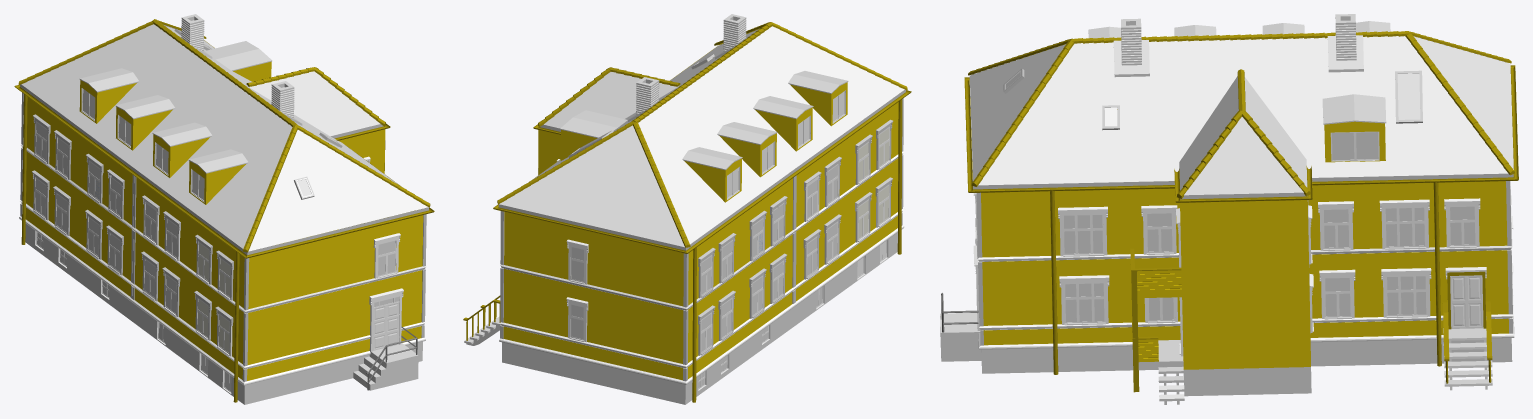
The model's file is house_tile_1_1111.glb.
The picture shows the model from 3 angles, left to right: view 1: azimuth 30°, elevation 25°; view 2: azimuth 150°, elevation 25°; view 3: azimuth 270°, elevation 25°; orthographic projection. The views are drawn at different scales.
Visible parts, largest first — view 1: SketchUp.874, SketchUp.871, SketchUp.865, SketchUp.002, SketchUp.511, SketchUp.484, SketchUp.001, SketchUp.872, SketchUp.015, SketchUp.057, SketchUp.052, SketchUp.734 (+19 smaller); view 2: SketchUp.874, SketchUp.871, SketchUp.002, SketchUp.865, SketchUp.511, SketchUp.484, SketchUp.001, SketchUp.872, SketchUp.057, SketchUp.052, SketchUp.734, SketchUp.522 (+14 smaller); view 3: SketchUp.871, SketchUp.874, SketchUp.868, SketchUp.865, SketchUp.002, SketchUp, SketchUp.511, SketchUp.872, SketchUp.734, SketchUp.057, SketchUp.484, SketchUp.019 (+30 smaller).
Boxes of the visible parts, x1,y1,x2,y2 form: SketchUp.874: (25, 97, 423, 380); SketchUp.871: (21, 24, 428, 251); SketchUp.865: (249, 71, 380, 136); SketchUp.002: (25, 224, 422, 404); SketchUp.511: (14, 40, 434, 258); SketchUp.484: (19, 216, 425, 385); SketchUp.001: (109, 286, 199, 370); SketchUp.872: (20, 84, 428, 255); SketchUp.015: (353, 351, 418, 390); SketchUp.057: (20, 200, 425, 369); SketchUp.052: (21, 144, 426, 313); SketchUp.734: (205, 41, 272, 71); SketchUp.874: (503, 102, 898, 380); SketchUp.871: (499, 26, 904, 247); SketchUp.002: (502, 232, 897, 404); SketchUp.865: (544, 72, 678, 128); SketchUp.511: (493, 48, 911, 253); SketchUp.484: (499, 225, 904, 384); SketchUp.001: (770, 262, 857, 343); SketchUp.872: (498, 89, 905, 250); SketchUp.057: (499, 209, 903, 368); SketchUp.052: (500, 153, 902, 310); SketchUp.734: (560, 110, 627, 138); SketchUp.522: (790, 82, 847, 126); SketchUp.871: (969, 36, 1513, 185); SketchUp.874: (981, 109, 1508, 345); SketchUp.868: (1180, 200, 1310, 369); SketchUp.865: (1179, 76, 1307, 195); SketchUp.002: (981, 338, 1512, 373); SketchUp: (1183, 366, 1311, 396); SketchUp.511: (964, 65, 1518, 192); SketchUp.872: (969, 77, 1513, 189); SketchUp.734: (1322, 94, 1386, 124); SketchUp.057: (975, 218, 1513, 330); SketchUp.484: (975, 240, 1514, 349); SketchUp.019: (1137, 270, 1181, 298).
Bounding box in the file's own units: 13.74 × 13.47 × 22.92.
